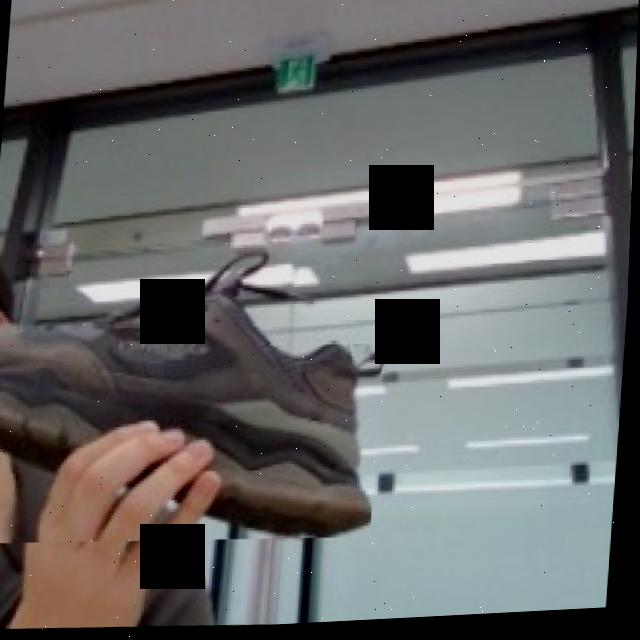shoe: (0, 244, 391, 556)
